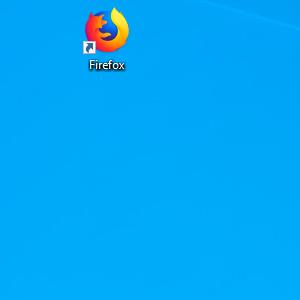firefox: (83, 7, 129, 54)
